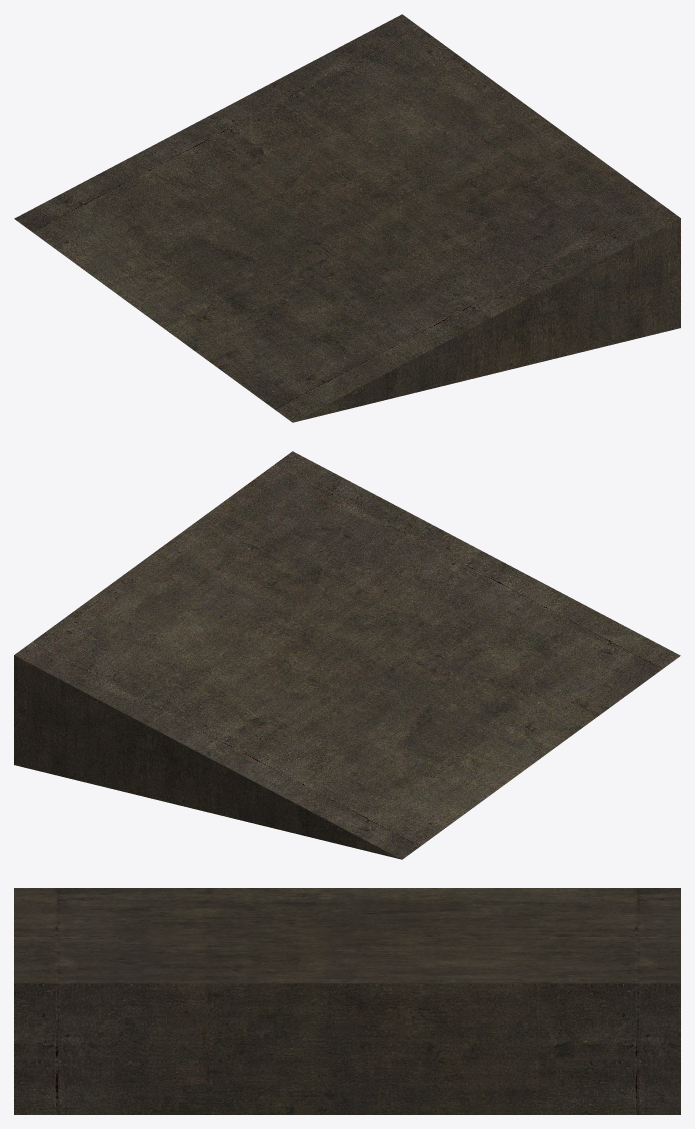
The model's file is ramp_platform_wide_mx_1.glb.
3 views of the same model, one above another, from view 1: azimuth 30°, elevation 25°; view 2: azimuth 150°, elevation 25°; view 3: azimuth 270°, elevation 25° (orthographic). The views are drawn at different scales.
Visible parts, largest first — view 1: ramp_platform_wide_mx_1; view 2: ramp_platform_wide_mx_1; view 3: ramp_platform_wide_mx_1.
Part boxes in pixels (<box>): ramp_platform_wide_mx_1: <box>14,14,680,422</box>; ramp_platform_wide_mx_1: <box>14,451,680,859</box>; ramp_platform_wide_mx_1: <box>14,888,680,1114</box>.
Bounding box in the file's own units: 3.7 × 1 × 4.6.
1 material, 1 textured.
